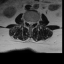CCS_normal: (29, 19, 31, 29)
LFS_normal: (33, 19, 36, 25)
LLS_normal: (31, 19, 33, 27)
RFS_stenosis: (26, 19, 27, 25)
RLS_normal: (27, 19, 29, 26)
